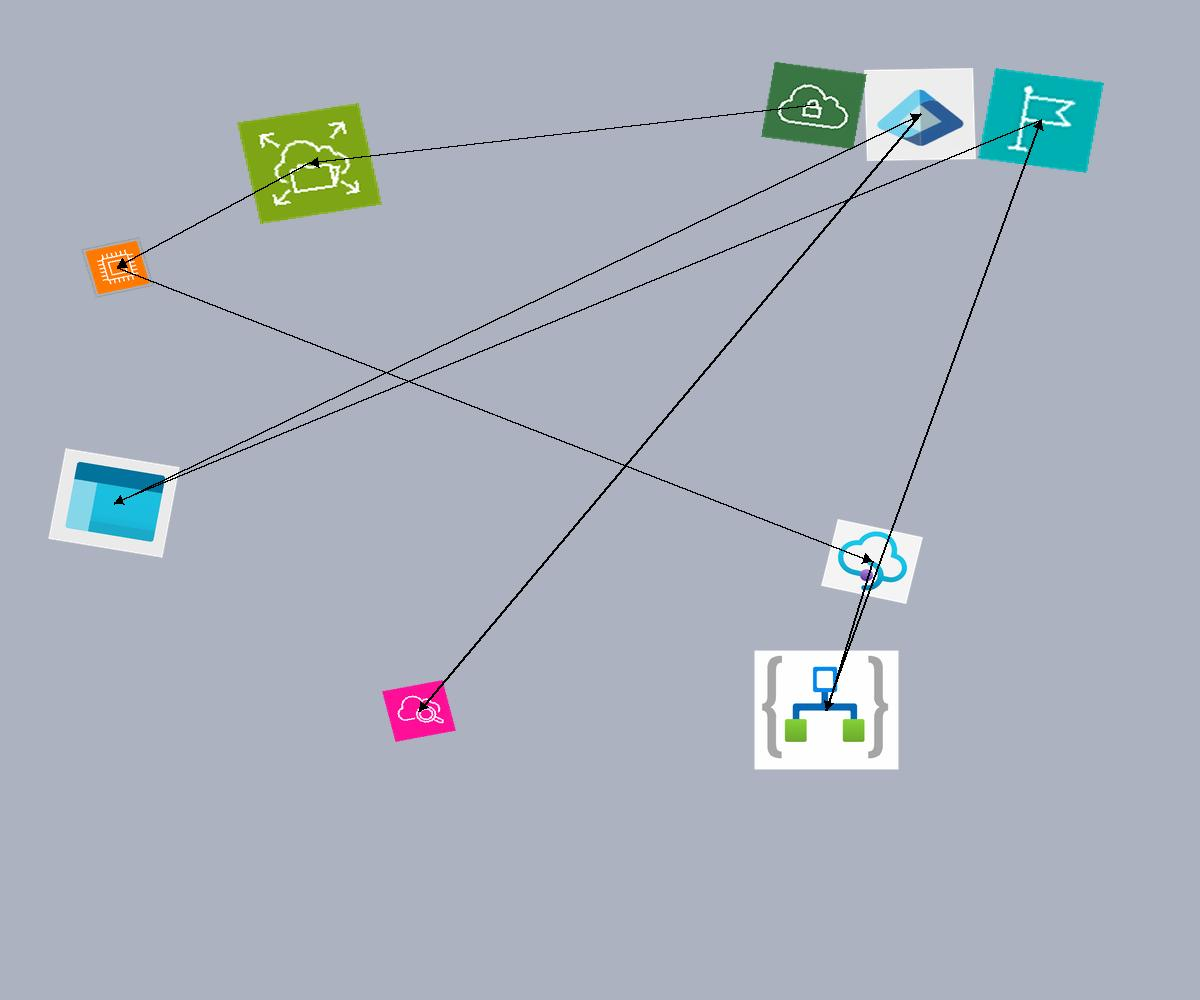AWS-Category_Compute: (81, 237, 154, 298)
AWS-CloudWatch: (382, 680, 456, 742)
AWS-EFS: (237, 103, 382, 224)
AWS-Private_vpc: (761, 61, 867, 150)
AWS-Region: (978, 68, 1104, 173)
Azure_api_gateway: (821, 519, 923, 604)
Azure_integration-204-Logic-Apps: (754, 650, 899, 770)
Azure_management-portal: (48, 448, 180, 558)
Azure_microsoft_entra: (864, 68, 976, 161)
